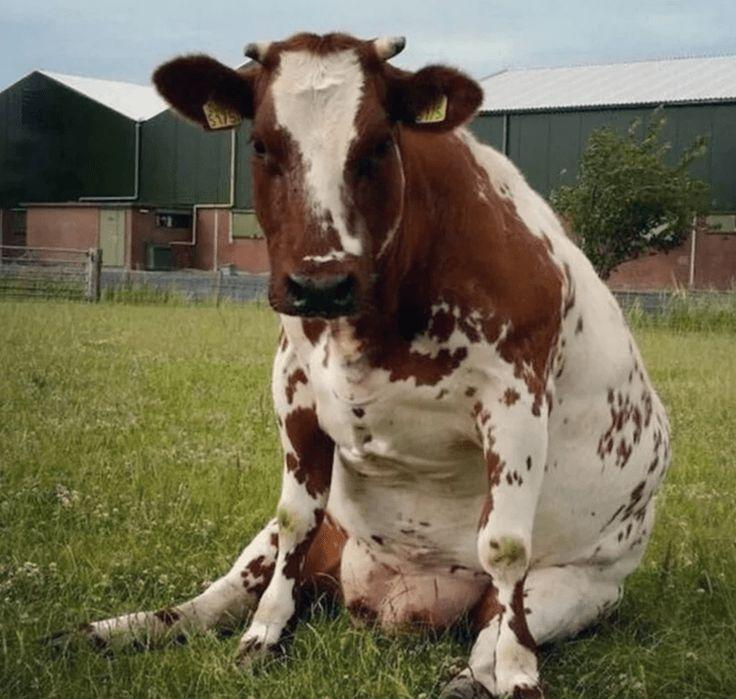cow: (152, 16, 730, 692)
